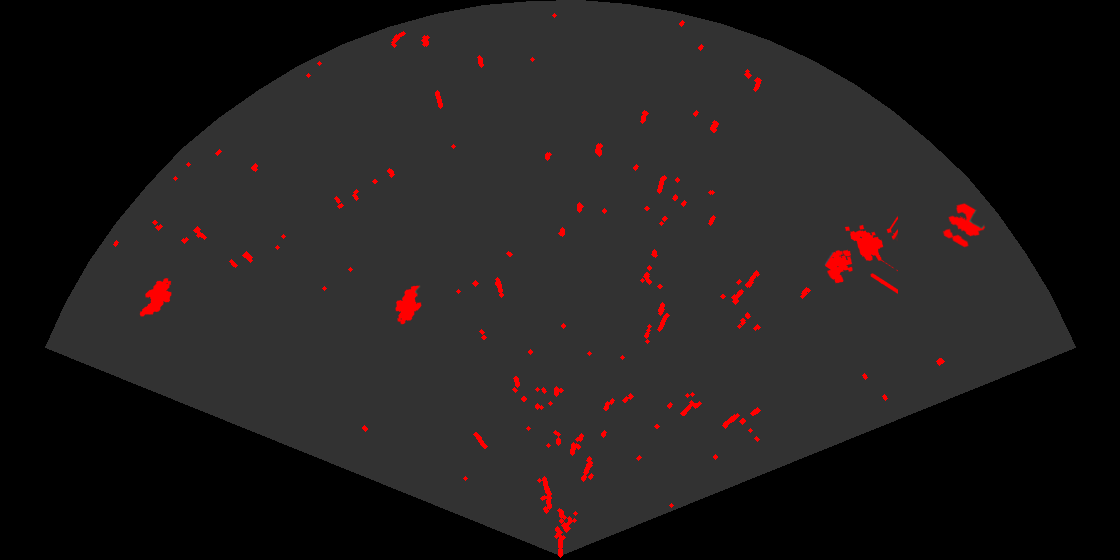AUV: (138, 276, 173, 318), (394, 284, 423, 326)
ball: (941, 201, 987, 249)
cage: (823, 215, 898, 295)
